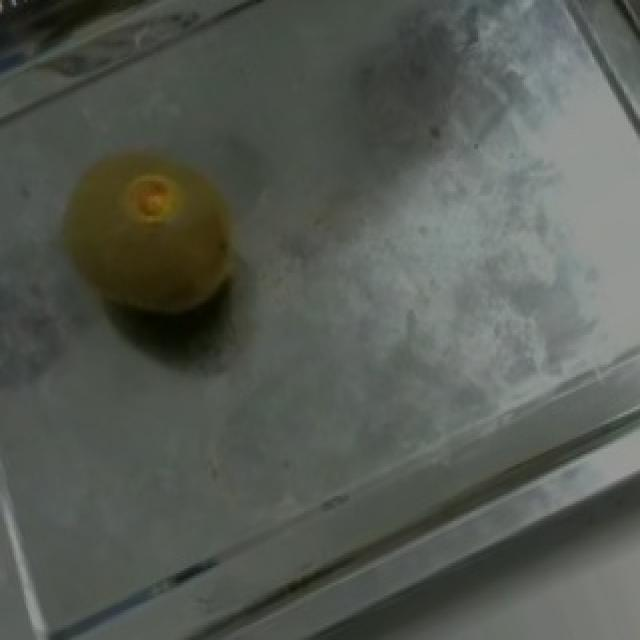Fruit: (22, 109, 276, 357)
